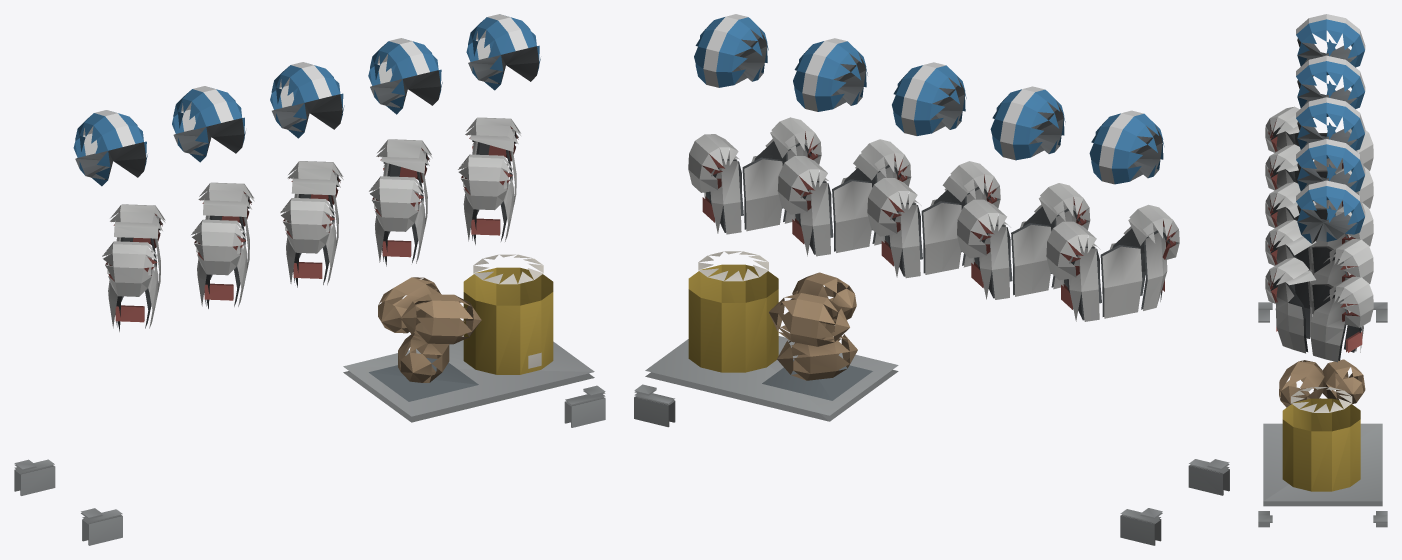
Rendered from rack.lod.glb.
3 renders of one model, left to right at view 1: azimuth 30°, elevation 25°; view 2: azimuth 150°, elevation 25°; view 3: azimuth 270°, elevation 25°, orthographic. The views are drawn at different scales.
Parts seen in each view (by area): view 1: rack; view 2: rack; view 3: rack.
Part boxes in pixels (x1=…): rack: x1=14, y1=14, x2=605, y2=545; rack: x1=634, y1=14, x2=1229, y2=545; rack: x1=1258, y1=14, x2=1387, y2=527.
Size of the model in its own units: 2.6 by 1.86 by 0.65.
